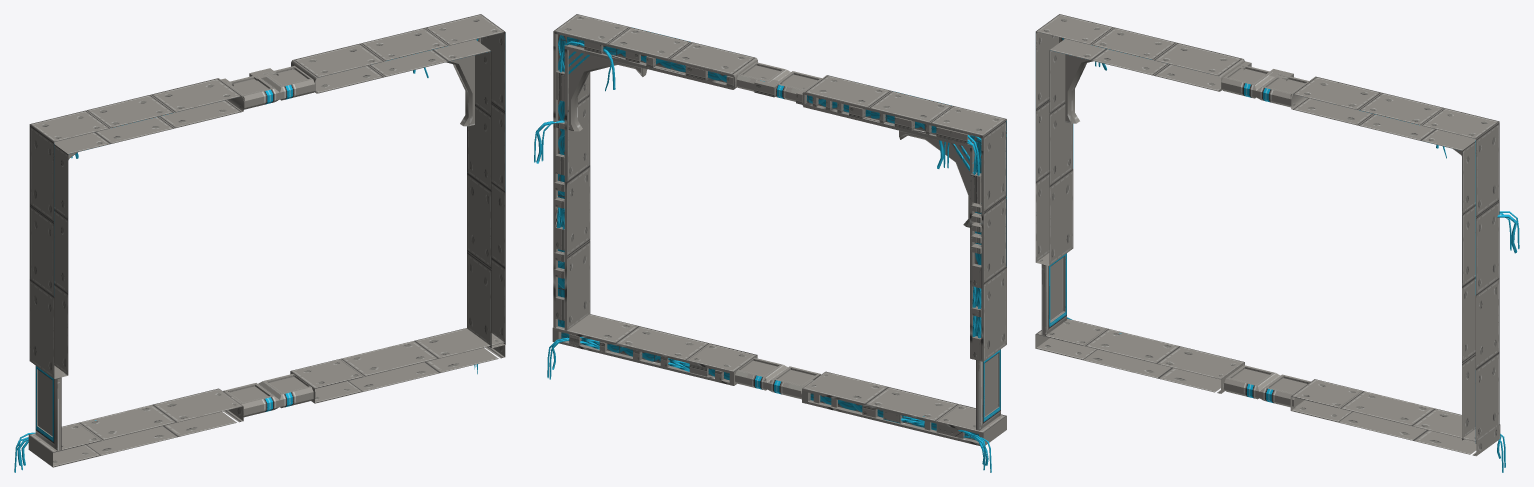
File: TestRoom4FBX.fbx
3 renders of one model, left to right at view 1: azimuth 30°, elevation 25°; view 2: azimuth 150°, elevation 25°; view 3: azimuth 330°, elevation 25°, orthographic. The views are drawn at different scales.
Parts seen in each view (by area): view 1: CornerBase5, CornerBase10, wallPiece5, wallPiece4, TopDoorLeft (×2), TopDoorRight (×2), RightSideDoor, Arch2; view 2: CornerBase5, CornerBase10, wallPiece5, wallPiece4, TopDoorLeft (×2), TopDoorRight (×2), RightSideDoor, Arch2, Arch; view 3: CornerBase5, CornerBase10, wallPiece5, wallPiece4, TopDoorRight (×2), TopDoorLeft (×2), RightSideDoor, Arch.
Boxes of the visible parts, x1,y1,x2,y2 form: CornerBase5: [291, 14, 505, 348]; CornerBase10: [29, 78, 244, 378]; wallPiece5: [28, 388, 243, 467]; wallPiece4: [290, 328, 505, 403]; TopDoorLeft (×2): [258, 65, 315, 408]; TopDoorRight (×2): [223, 75, 279, 417]; RightSideDoor: [35, 366, 61, 450]; Arch2: [446, 39, 476, 126]; CornerBase5: [553, 14, 757, 330]; CornerBase10: [802, 75, 1006, 361]; wallPiece5: [802, 371, 1006, 445]; wallPiece4: [552, 314, 757, 385]; TopDoorLeft (×2): [735, 62, 790, 390]; TopDoorRight (×2): [767, 71, 821, 399]; RightSideDoor: [976, 349, 1000, 430]; Arch2: [568, 50, 647, 131]; Arch: [899, 130, 969, 227]; CornerBase5: [1290, 76, 1499, 443]; CornerBase10: [1035, 14, 1244, 265]; wallPiece5: [1035, 318, 1244, 393]; wallPiece4: [1290, 379, 1500, 456]; TopDoorRight (×2): [1221, 64, 1280, 399]; TopDoorLeft (×2): [1256, 73, 1310, 408]; RightSideDoor: [1041, 253, 1066, 335]; Arch: [1063, 38, 1093, 123].
Bounding box in the file's own units: 33.73 × 24.56 × 4.09.
